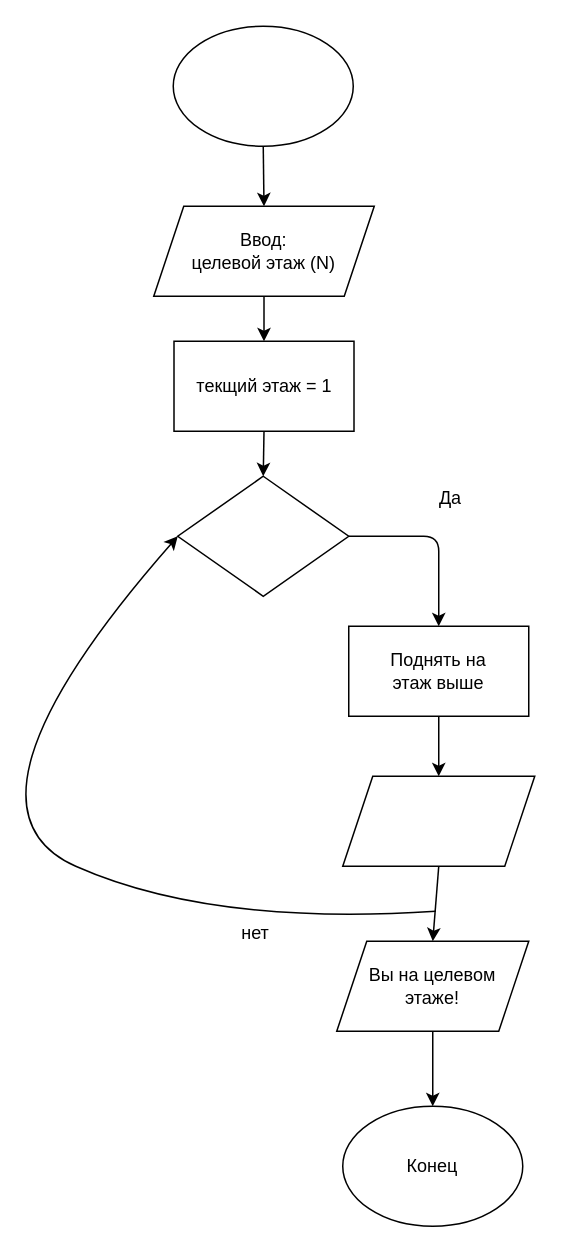
This 563x1253 diagram has some shape labels left out. Each missing label, with the centre of its shape:
"Начало" belongs at point 262,85.
"текущий этаж < N?" belongs at point 262,535.
"текущий этаж = текущий этаж + 1" belongs at point 438,820.
